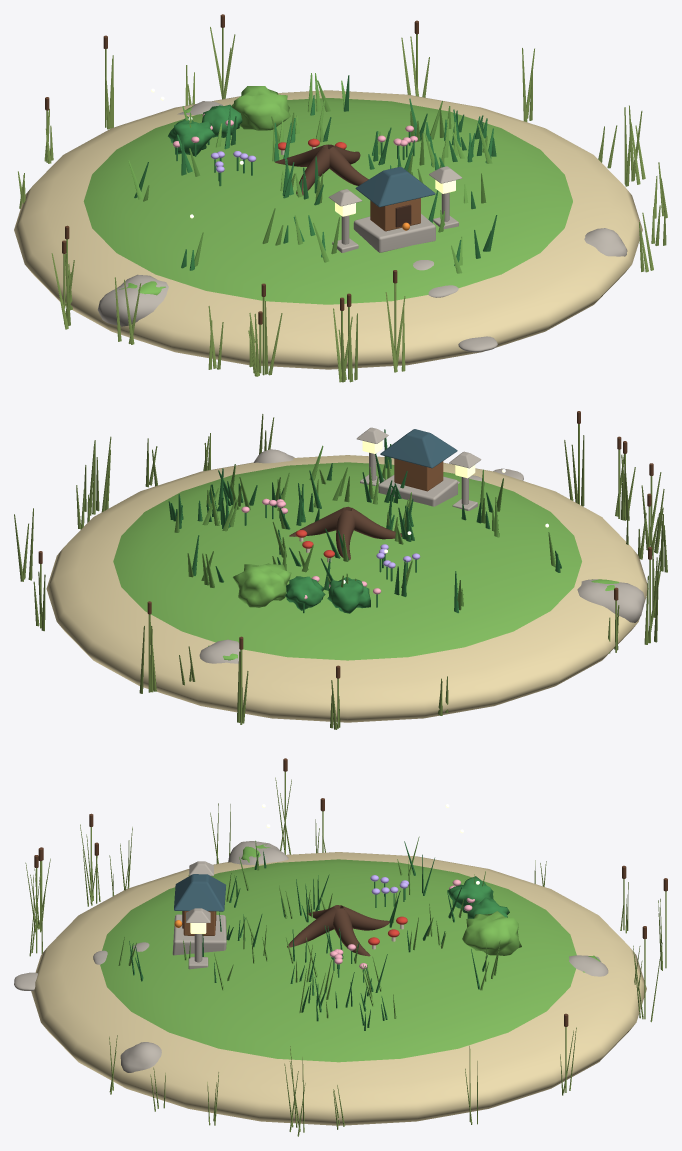
The model's file is islet_01.glb.
3 views of the same model, one above another, from view 1: azimuth 30°, elevation 25°; view 2: azimuth 150°, elevation 25°; view 3: azimuth 270°, elevation 25° (orthographic). The views are drawn at different scales.
Parts seen in each view (by area): view 1: islet_grass.001, islet_sand.001, rock.010, bush.003, shrine_roof, shrine_base, bush.005, shrine_house, rock.011, bush.004, root.007, root.006; view 2: islet_grass.001, islet_sand.001, bush.003, shrine_roof, rock.010, shrine_base, shrine_house, bush.005, bush.004, rock.012, root.006, root.005 (+1 smaller); view 3: islet_grass.001, islet_sand.001, bush.003, shrine_roof, shrine_base, rock.011, rock.010, bush.005, root.007, root.004, rock.012.
Part boxes in pixels (x1=…): islet_grass.001: x1=83, y1=98, x2=572, y2=304; islet_sand.001: x1=14, y1=90, x2=642, y2=369; rock.010: x1=97, y1=274, x2=168, y2=326; bush.003: x1=231, y1=86, x2=290, y2=130; shrine_roof: x1=355, y1=166, x2=435, y2=207; shrine_base: x1=353, y1=214, x2=435, y2=252; bush.005: x1=168, y1=116, x2=214, y2=155; shrine_house: x1=370, y1=198, x2=420, y2=231; rock.011: x1=584, y1=228, x2=627, y2=256; bush.004: x1=202, y1=104, x2=242, y2=137; root.007: x1=328, y1=146, x2=368, y2=185; root.006: x1=296, y1=147, x2=330, y2=195; islet_grass.001: x1=113, y1=462, x2=581, y2=660; islet_sand.001: x1=46, y1=455, x2=648, y2=722; bush.003: x1=233, y1=563, x2=291, y2=607; shrine_roof: x1=380, y1=429, x2=457, y2=468; rock.010: x1=577, y1=579, x2=644, y2=622; shrine_base: x1=378, y1=475, x2=457, y2=506; shrine_house: x1=394, y1=458, x2=443, y2=491; bush.005: x1=327, y1=577, x2=370, y2=613; bush.004: x1=285, y1=576, x2=325, y2=610; rock.012: x1=199, y1=639, x2=240, y2=663; root.006: x1=350, y1=508, x2=401, y2=539; root.005: x1=336, y1=510, x2=355, y2=560; islet_grass.001: x1=100, y1=859, x2=576, y2=1062; islet_sand.001: x1=31, y1=852, x2=646, y2=1125; bush.003: x1=462, y1=911, x2=521, y2=955; shrine_roof: x1=174, y1=874, x2=225, y2=911; shrine_base: x1=172, y1=914, x2=226, y2=955; rock.011: x1=120, y1=1042, x2=161, y2=1072; rock.010: x1=228, y1=841, x2=288, y2=865; bush.005: x1=447, y1=876, x2=493, y2=913; root.007: x1=287, y1=906, x2=337, y2=947; root.004: x1=333, y1=908, x2=370, y2=956; rock.012: x1=569, y1=955, x2=608, y2=976.
Size of the model in its own units: 10.3 by 2.89 by 9.97.
